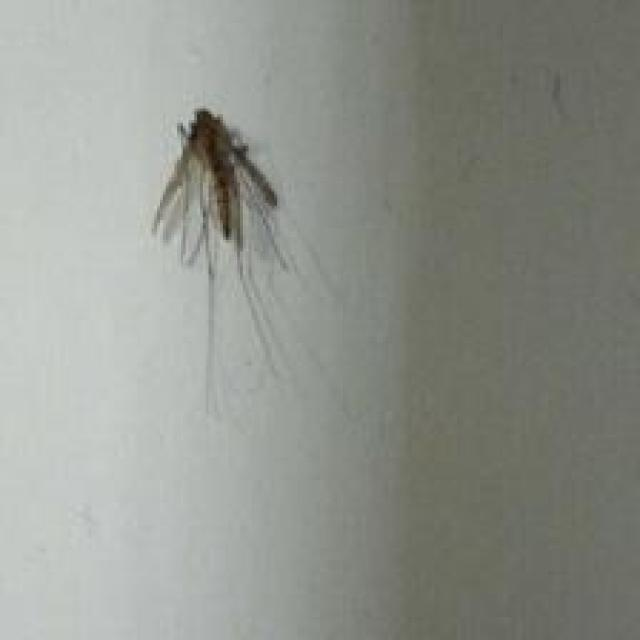Culex: (148, 106, 346, 420)
